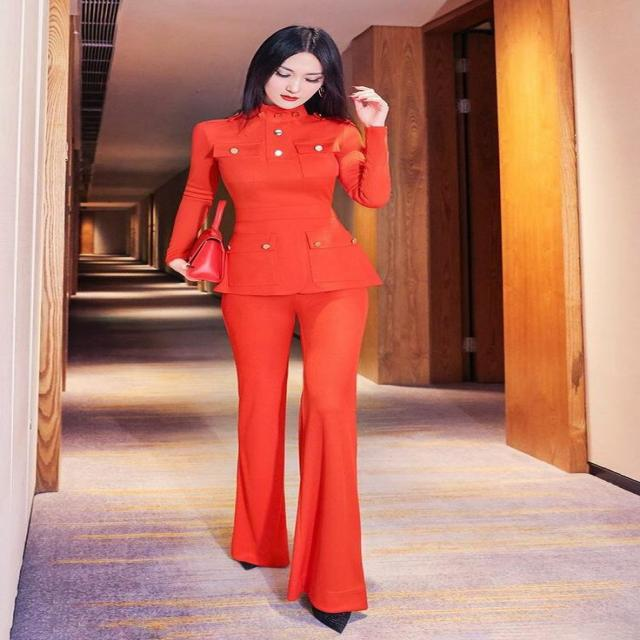female-dress: (198, 120, 388, 605)
